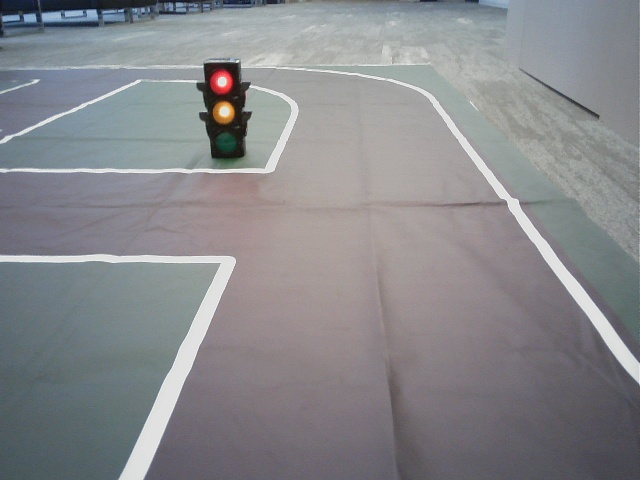red: (206, 65, 244, 155)
